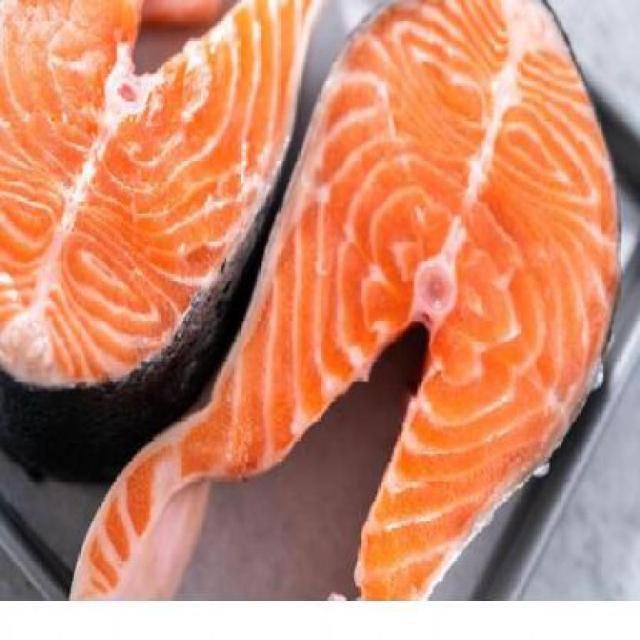salmon: (51, 3, 635, 603), (1, 6, 322, 399)
